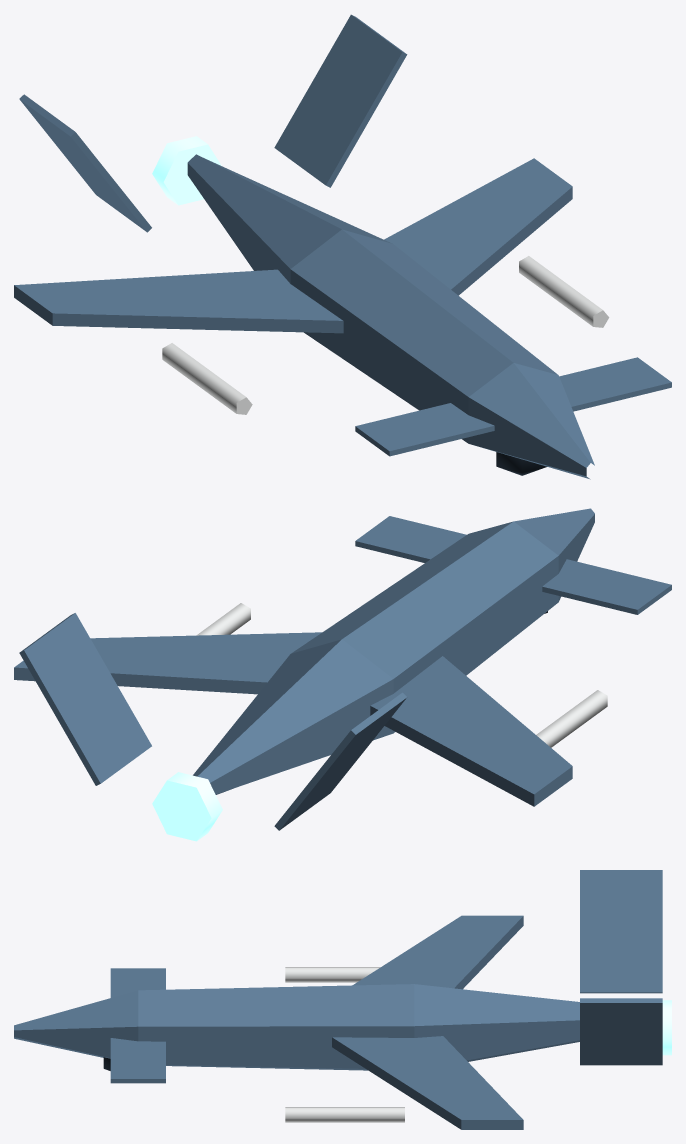
The model's file is veh_air_drone_strike_a10.glb.
3 views of the same model, one above another, from view 1: azimuth 30°, elevation 25°; view 2: azimuth 150°, elevation 25°; view 3: azimuth 270°, elevation 25° (orthographic). The views are drawn at different scales.
Parts seen in each view (by area): view 1: body; view 2: body; view 3: body.
Boxes of the visible parts, x1,y1,x2,y2 form: body: [14, 14, 671, 479]; body: [14, 508, 671, 841]; body: [14, 870, 671, 1129].
Size of what is drawn, in the model's own units: 5.25 by 1.7 by 7.15.
